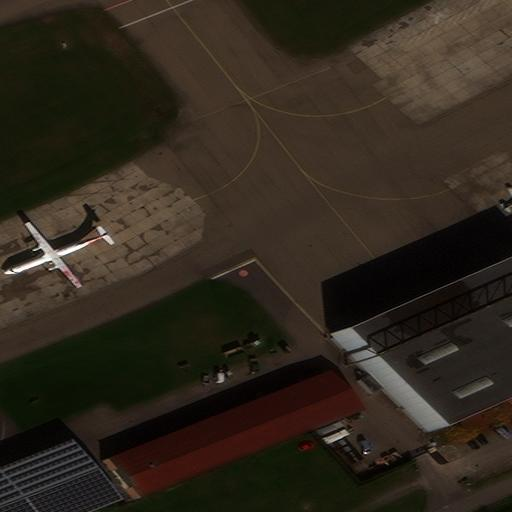Medium Civil Transport: (3, 224, 108, 288)
Small Civil Transport: (503, 184, 512, 210)
